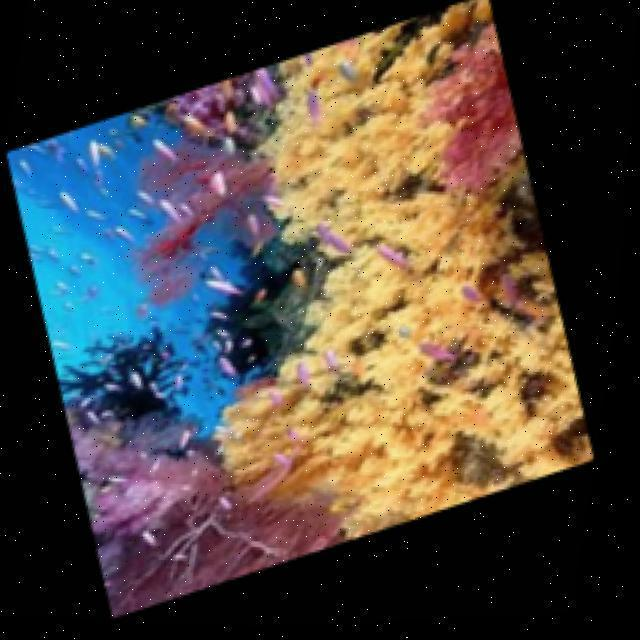Healthy Coral: (252, 238, 554, 470), (69, 434, 319, 606), (110, 97, 293, 310), (292, 62, 467, 268), (421, 56, 546, 222)
